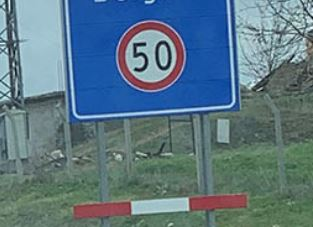50 Km Hiz Siniri: (116, 20, 185, 94)
